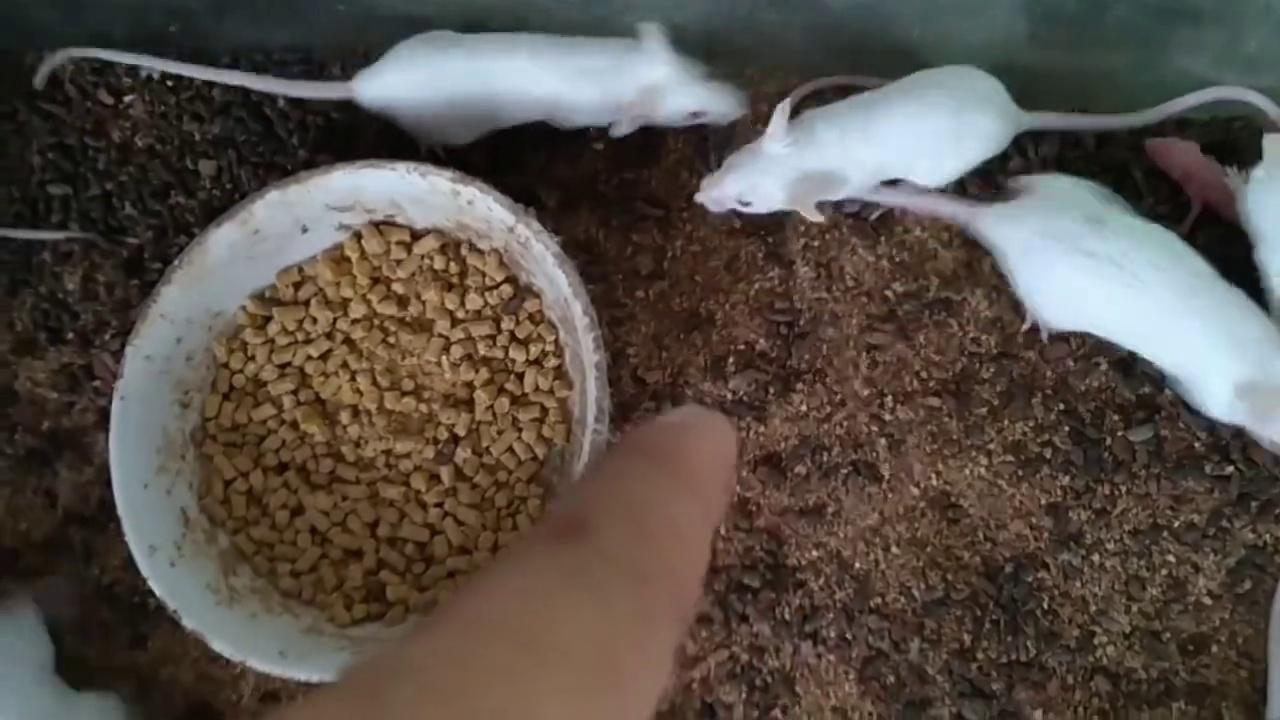rat: (847, 176, 1279, 453), (695, 64, 1280, 222), (30, 22, 750, 145)
